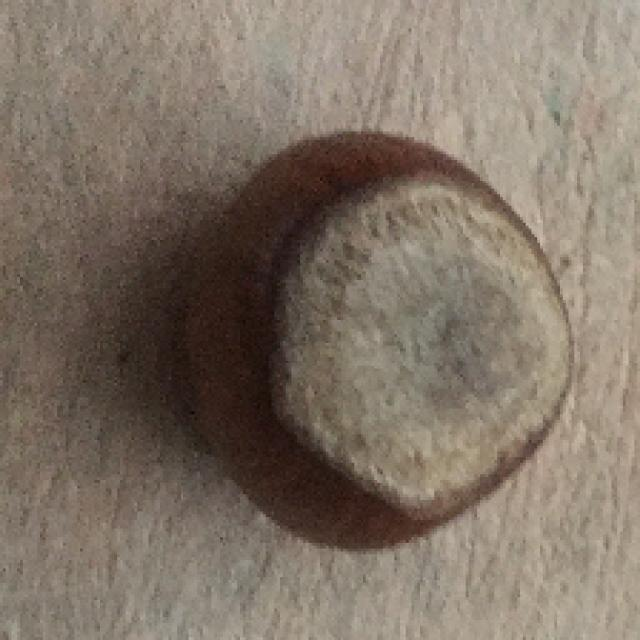qualityHazelnut: (185, 128, 577, 555)
